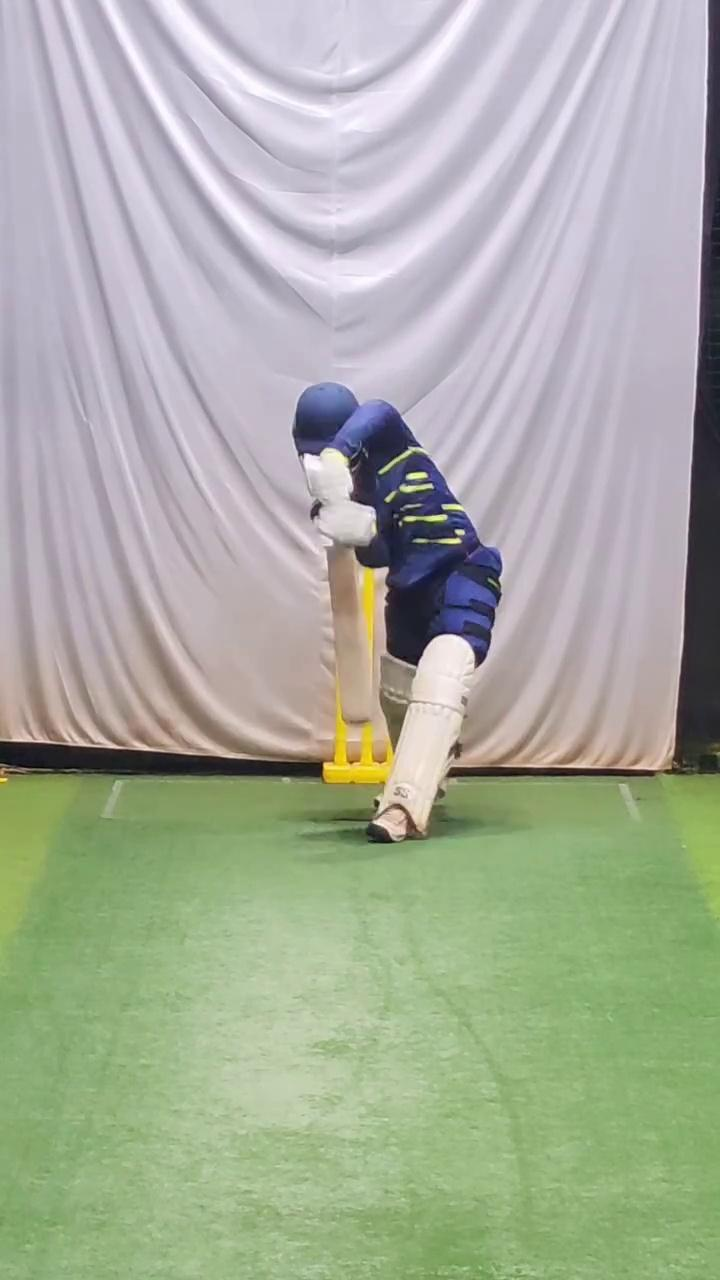bat: (320, 541, 376, 729)
